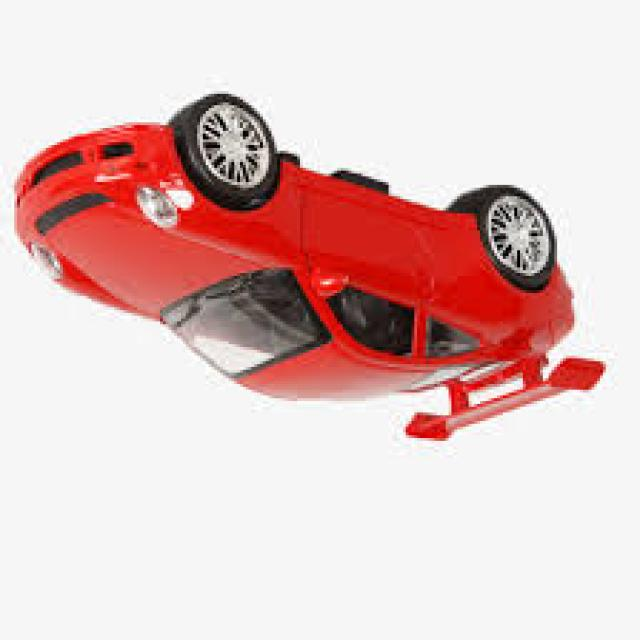Car: (14, 97, 603, 441)
